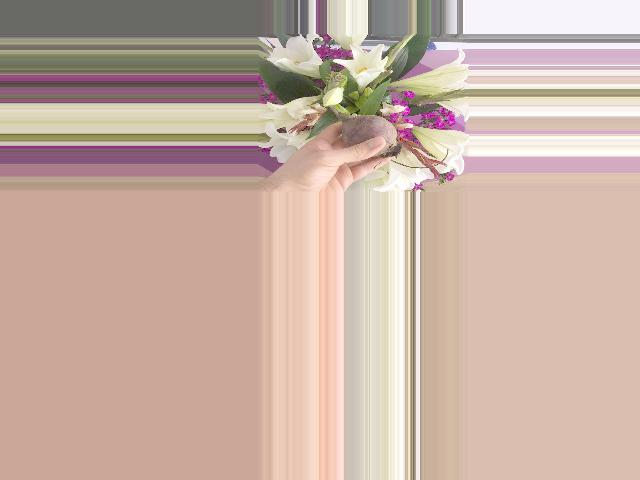beet: (327, 105, 402, 158)
